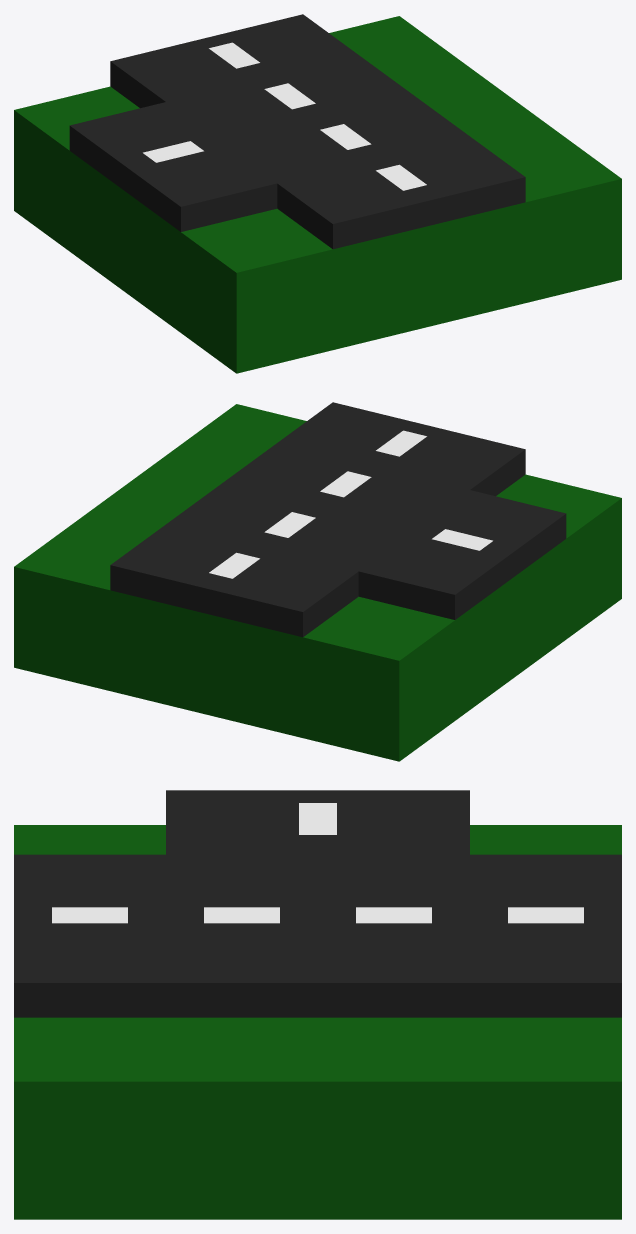
File: T-junction.obj
The picture shows the model from 3 angles, top to bottom: view 1: azimuth 30°, elevation 25°; view 2: azimuth 150°, elevation 25°; view 3: azimuth 270°, elevation 25°; orthographic projection. The views are drawn at different scales.
Visible parts, largest first — view 1: grass, road, plane; view 2: grass, road, plane; view 3: grass, road, plane.
Boxes of the visible parts, bbox=[...] form: grass: bbox=[14, 16, 621, 373]; road: bbox=[69, 14, 525, 249]; plane: bbox=[143, 42, 426, 190]; grass: bbox=[14, 404, 621, 761]; road: bbox=[110, 402, 566, 637]; plane: bbox=[209, 430, 492, 578]; grass: bbox=[14, 825, 621, 1219]; road: bbox=[14, 790, 621, 1017]; plane: bbox=[52, 803, 583, 923].
Size of the model in its own units: 0.25 by 0.0797 by 0.25.
Materials: 1 (1 with a texture image).
